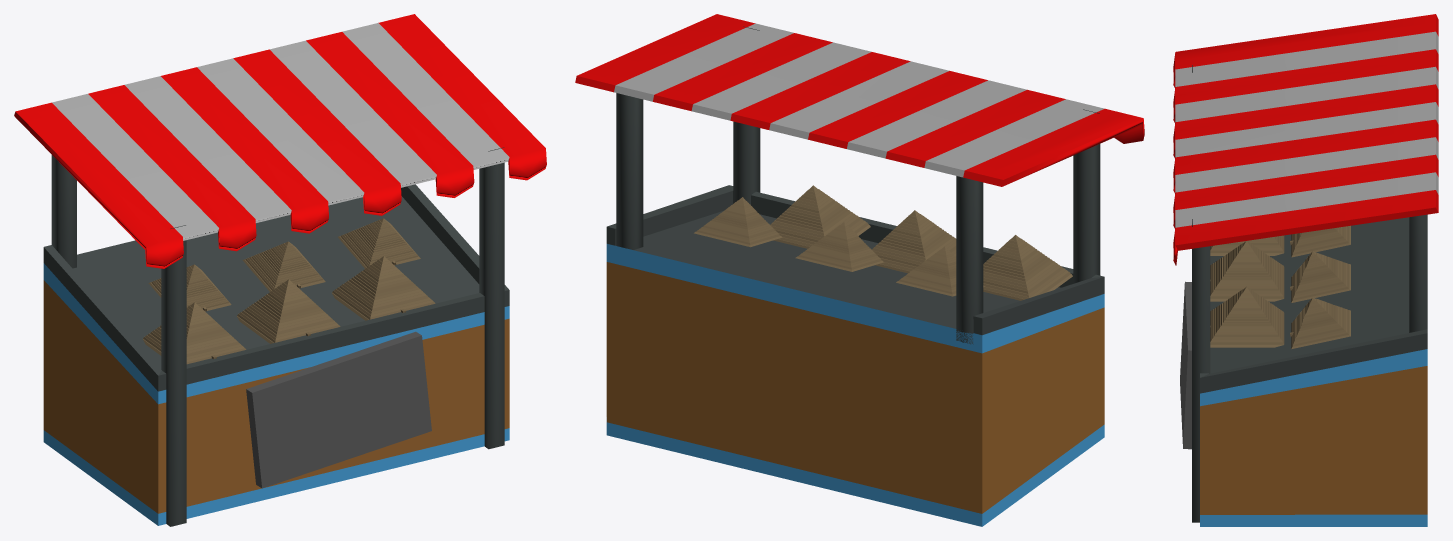
File: Street_Stend_Giza.fbx
The picture shows the model from 3 angles, left to right: view 1: azimuth 30°, elevation 25°; view 2: azimuth 150°, elevation 25°; view 3: azimuth 270°, elevation 25°; orthographic projection. The views are drawn at different scales.
Parts seen in each view (by area): view 1: Street_Stend_Giza; view 2: Street_Stend_Giza; view 3: Street_Stend_Giza.
Boxes of the visible parts, box(x1,y1,x2,y2) form: Street_Stend_Giza: box(14, 14, 546, 526); Street_Stend_Giza: box(575, 14, 1144, 526); Street_Stend_Giza: box(1173, 14, 1438, 526).
Size of the model in its own units: 3 by 2.39 by 1.74.
